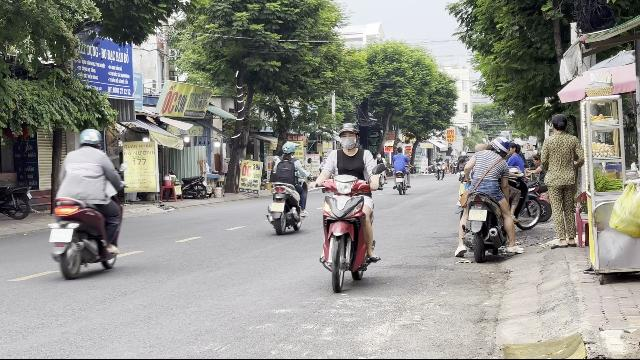helmet: (337, 122, 359, 150), (488, 136, 510, 162), (76, 128, 102, 148), (280, 140, 296, 156)
licenseplate: (50, 229, 74, 243), (468, 210, 488, 220), (270, 202, 284, 211)
motorcyclist: (47, 126, 125, 278), (314, 121, 382, 288), (452, 128, 522, 262), (266, 141, 308, 234)
